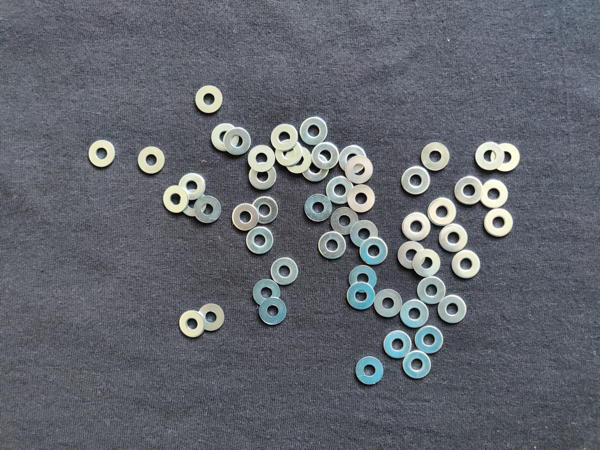circle: (351, 357, 385, 388), (483, 207, 515, 239), (269, 256, 300, 288), (401, 166, 433, 197), (250, 279, 283, 309), (372, 289, 405, 319), (383, 328, 414, 359), (193, 85, 223, 117), (401, 350, 433, 380), (209, 122, 239, 153), (438, 293, 468, 324), (417, 275, 448, 305), (451, 248, 482, 278), (398, 240, 428, 271), (401, 211, 431, 242), (426, 197, 457, 227), (478, 179, 509, 209), (475, 141, 506, 171), (421, 141, 452, 171), (232, 201, 261, 233), (455, 174, 484, 206), (86, 139, 116, 169), (270, 122, 300, 152), (138, 144, 167, 175), (401, 299, 430, 330), (331, 206, 360, 237), (305, 194, 336, 223), (338, 145, 369, 174), (194, 195, 222, 227), (257, 299, 291, 325), (246, 226, 276, 255), (248, 162, 277, 192), (347, 282, 377, 311), (414, 326, 443, 356), (438, 223, 468, 252), (198, 303, 226, 334), (360, 238, 389, 267), (326, 177, 355, 206), (347, 184, 376, 213), (493, 142, 522, 171), (178, 188, 206, 218), (223, 127, 251, 157), (348, 265, 378, 293), (312, 140, 340, 170), (251, 196, 279, 225), (246, 145, 275, 173), (413, 249, 441, 278), (319, 232, 348, 260), (349, 220, 378, 248), (300, 155, 329, 183), (275, 139, 304, 167), (177, 312, 205, 340), (346, 156, 374, 184), (301, 117, 329, 145), (285, 147, 313, 175), (178, 174, 208, 200), (163, 185, 188, 214)
